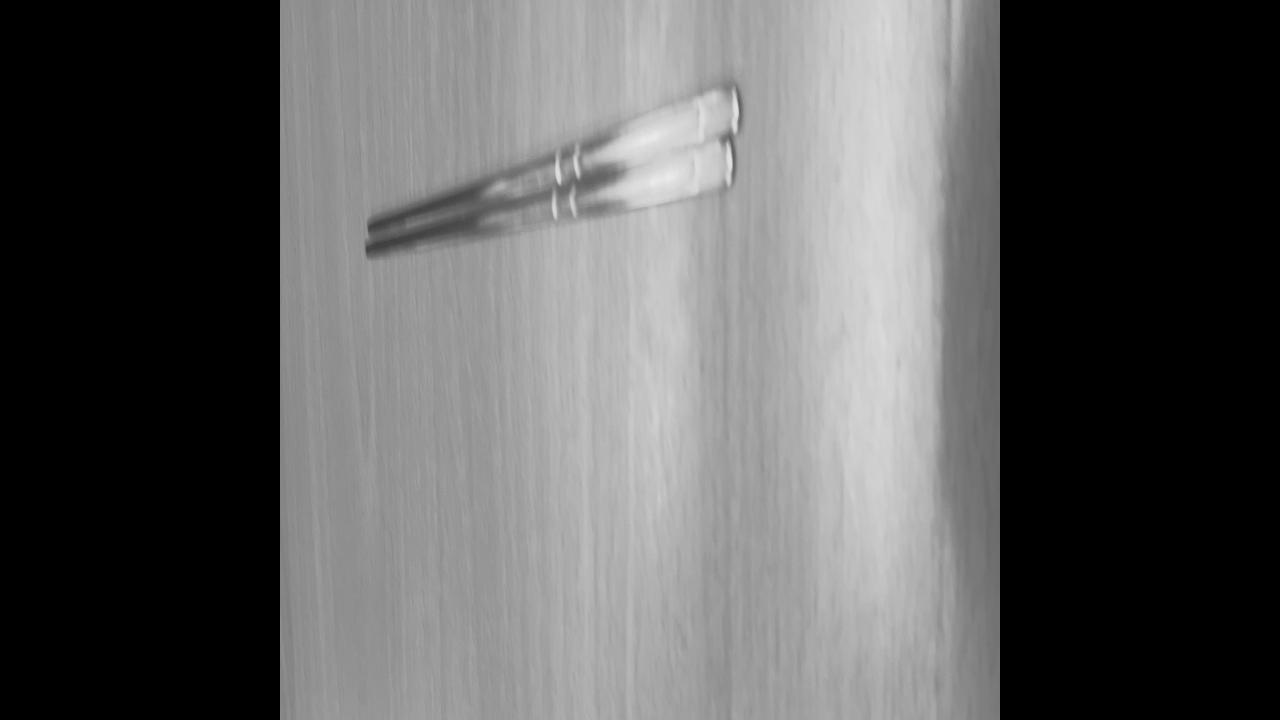chopstick: (363, 75, 740, 259)
